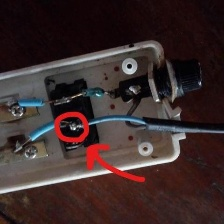three_eye_plug: (0, 27, 208, 201)
